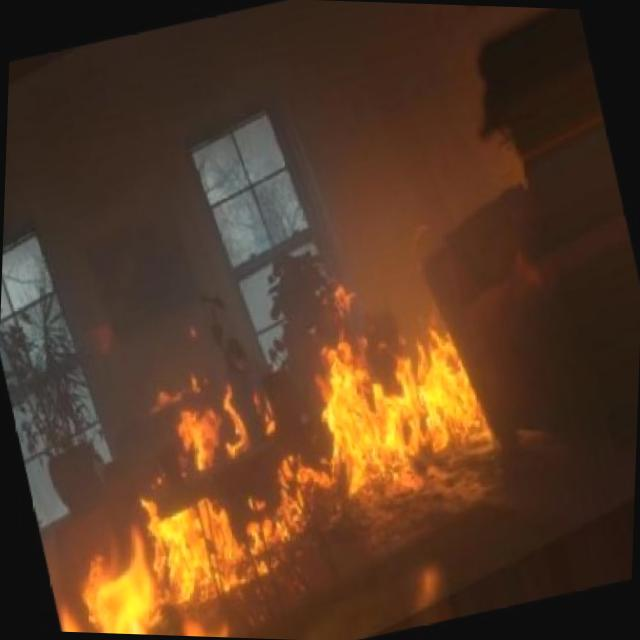fire: (0, 183, 564, 640)
